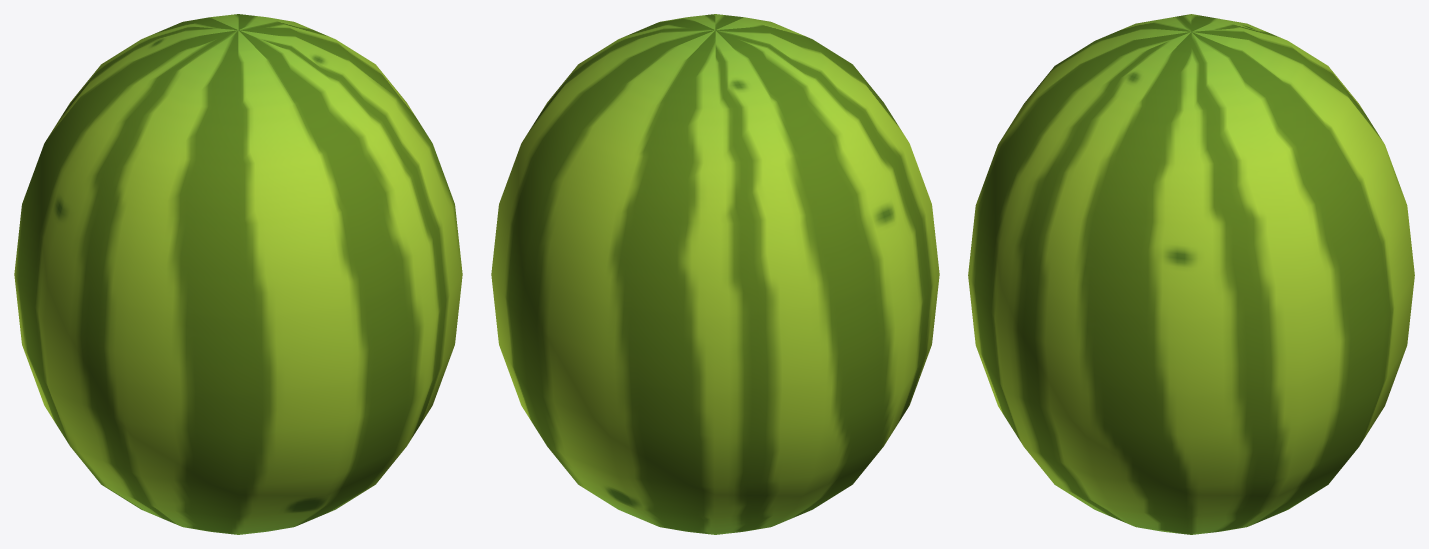
The model's file is watermelon.fbx.
3 renders of one model, left to right at view 1: azimuth 30°, elevation 25°; view 2: azimuth 150°, elevation 25°; view 3: azimuth 270°, elevation 25°, orthographic.
Parts seen in each view (by area): view 1: pSphere9; view 2: pSphere9; view 3: pSphere9.
Part boxes in pixels (x1=…): pSphere9: x1=14, y1=14, x2=462, y2=534; pSphere9: x1=491, y1=14, x2=939, y2=534; pSphere9: x1=968, y1=14, x2=1414, y2=534.
Size of the model in its own units: 1.51 by 1.82 by 1.51.
